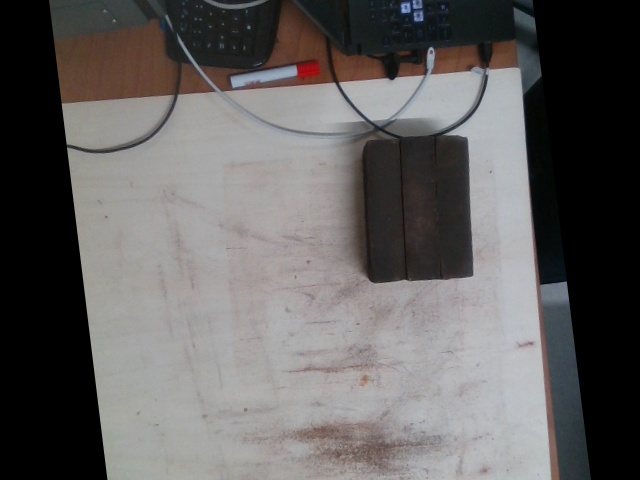brick-side: (401, 140, 439, 277), (366, 143, 404, 280), (435, 138, 472, 275)
